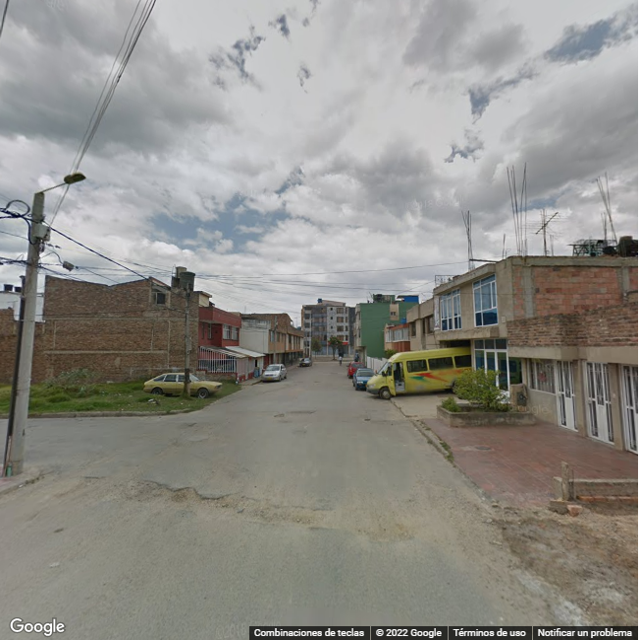D40: (127, 475, 238, 521), (245, 492, 333, 540)
